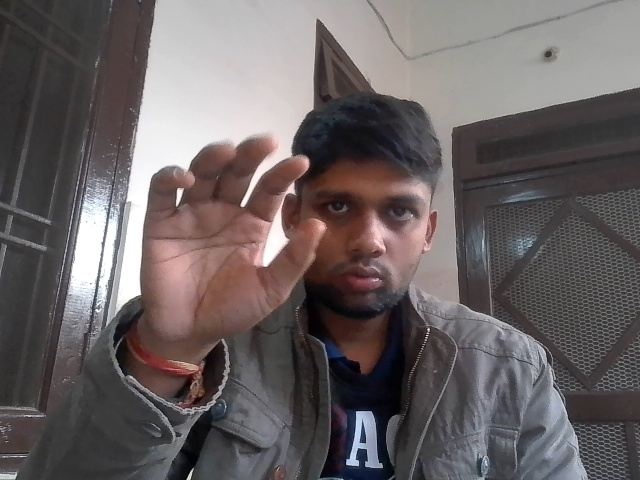Hello: (141, 129, 337, 351)
